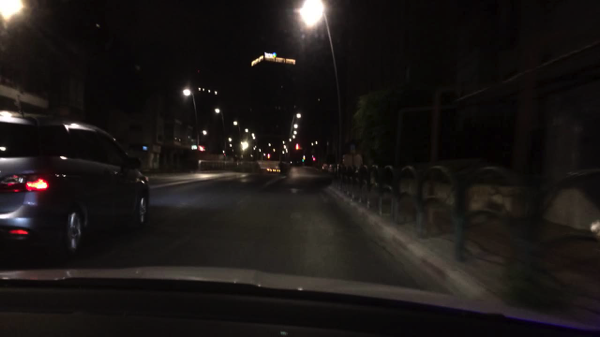car: (0, 109, 151, 272)
traffic light: (222, 149, 226, 156), (295, 143, 299, 150), (267, 153, 270, 160), (301, 157, 305, 162), (312, 156, 315, 161)
